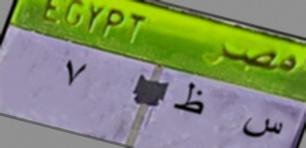7: (59, 53, 92, 92)
Thaa: (170, 77, 205, 122)
seen: (237, 112, 285, 146)
